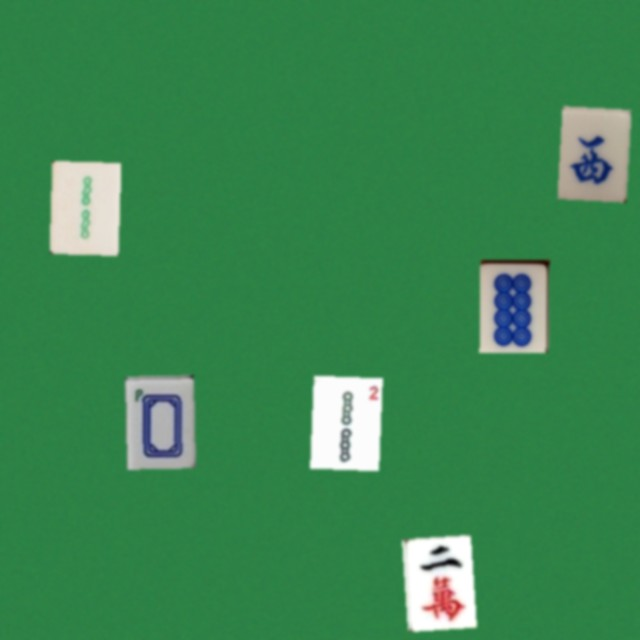tile: (310, 375, 379, 468), (124, 375, 193, 468), (557, 106, 626, 199), (479, 259, 548, 352), (49, 160, 118, 253), (401, 534, 470, 627)
